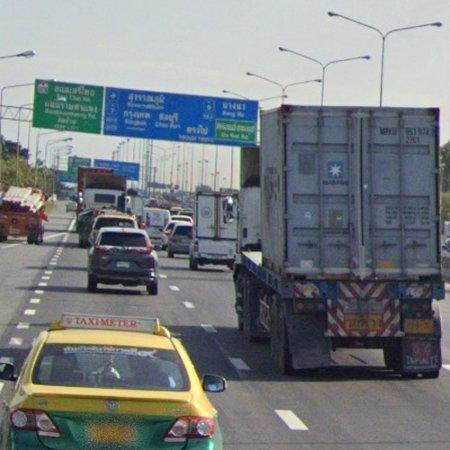taxis: (7, 315, 227, 450)
